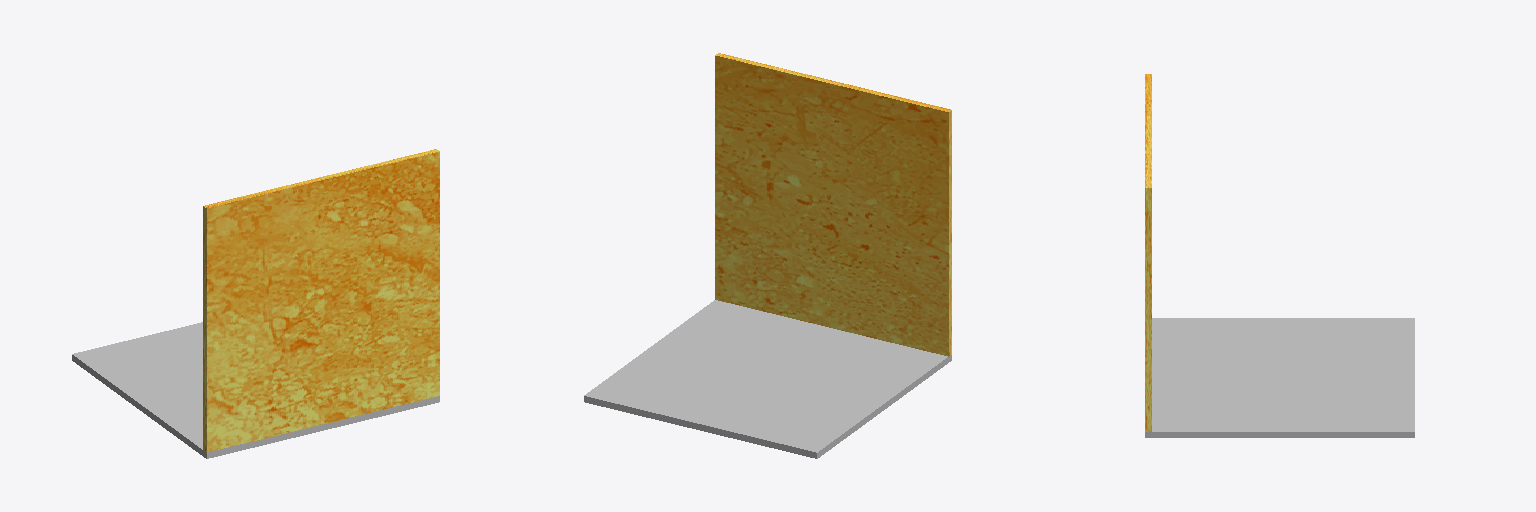
3 renders of one model, left to right at view 1: azimuth 30°, elevation 25°; view 2: azimuth 150°, elevation 25°; view 3: azimuth 270°, elevation 25°, orthographic.
Visible parts, largest first — view 1: Cube.001, Cube; view 2: Cube.001, Cube; view 3: Cube, Cube.001.
Part boxes in pixels (x1,y1,x2,y2): Cube.001: (203,149,439,452); Cube: (72,322,439,458); Cube.001: (715,53,951,356); Cube: (584,300,951,458); Cube: (1145,318,1414,437); Cube.001: (1145,74,1151,431).
Size of the model in its own units: 7.6 by 7.8 by 7.6.
Materials: 2 (1 with a texture image).